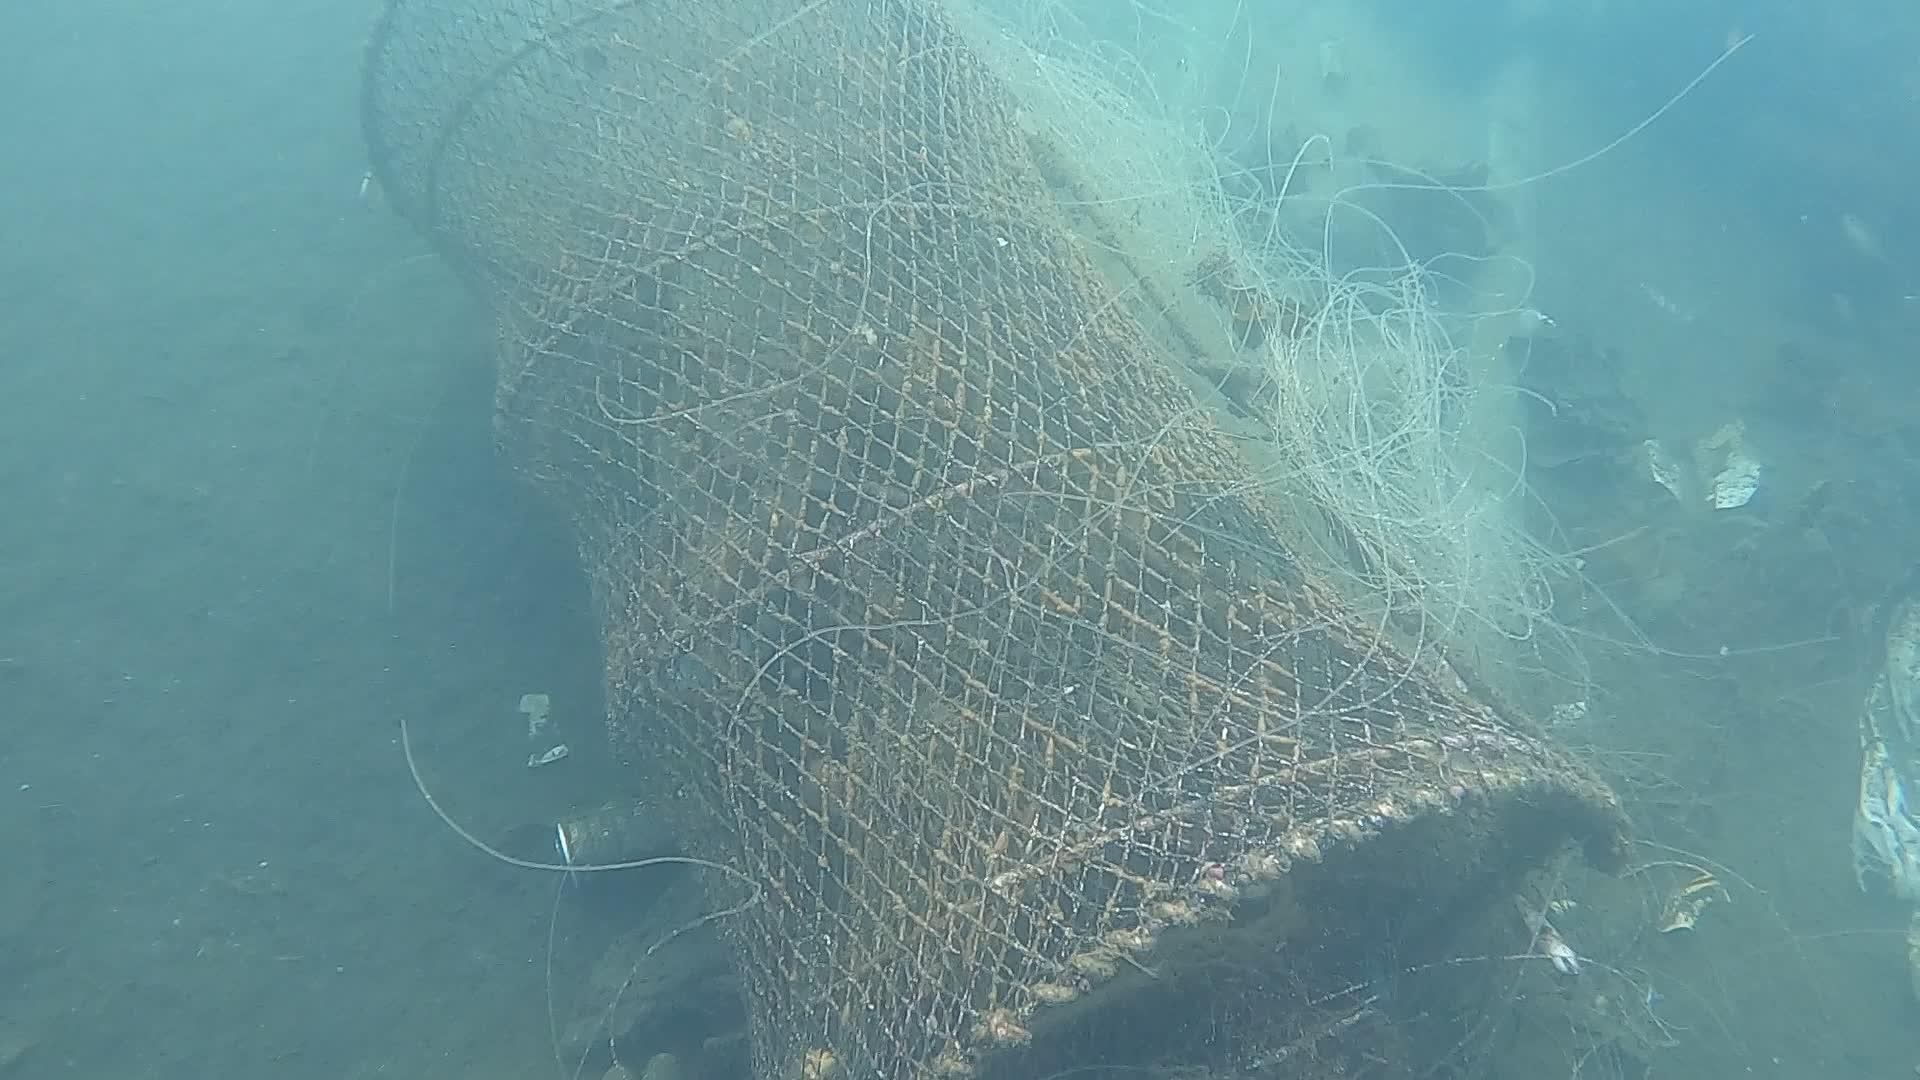spring fish trap: (352, 7, 1636, 1080)
